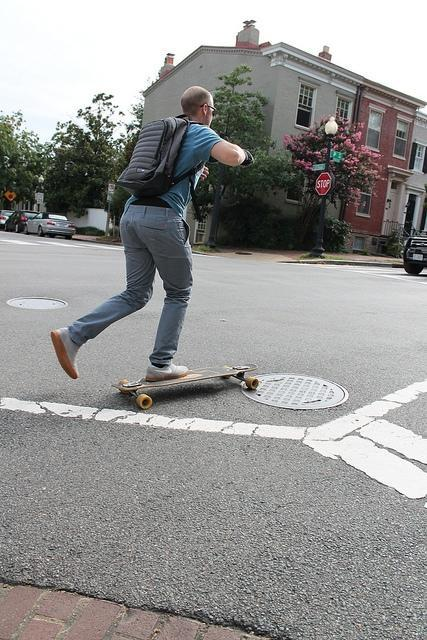car: (24, 210, 77, 236), (403, 236, 427, 274), (3, 210, 37, 233), (1, 210, 16, 226)
